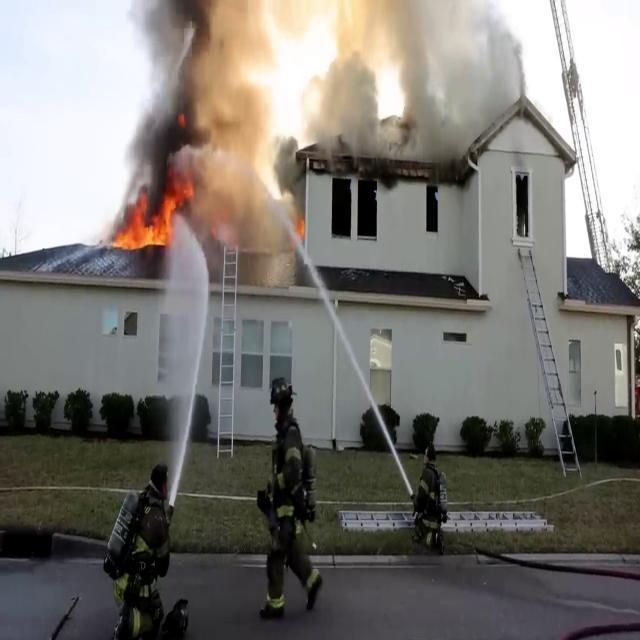Fire: (105, 186, 189, 248)
Smoke: (97, 3, 304, 208), (316, 0, 532, 156)
